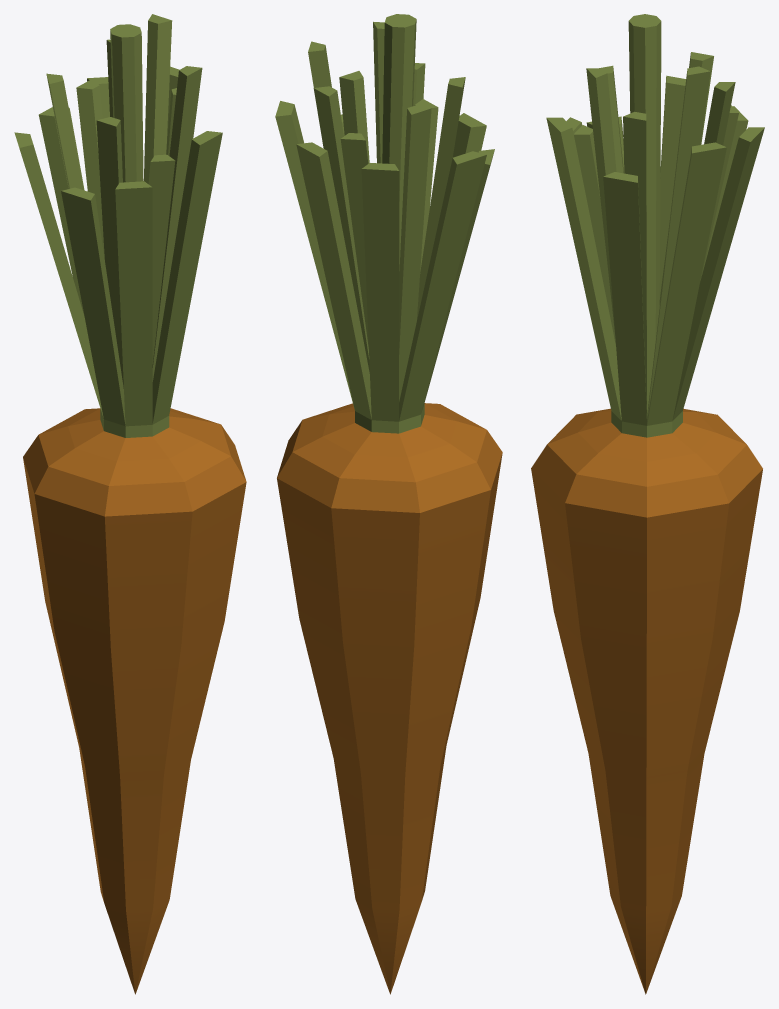
The model's file is Carrot.fbx.
The picture shows the model from 3 angles, left to right: view 1: azimuth 30°, elevation 25°; view 2: azimuth 150°, elevation 25°; view 3: azimuth 270°, elevation 25°; orthographic projection.
Visible parts, largest first — view 1: pCone1; view 2: pCone1; view 3: pCone1.
Part boxes in pixels (x1=…): pCone1: x1=14, y1=14, x2=246, y2=994; pCone1: x1=275, y1=14, x2=502, y2=994; pCone1: x1=531, y1=14, x2=764, y2=994.
Size of the model in its own units: 0.0185 by 0.0829 by 0.0181.
